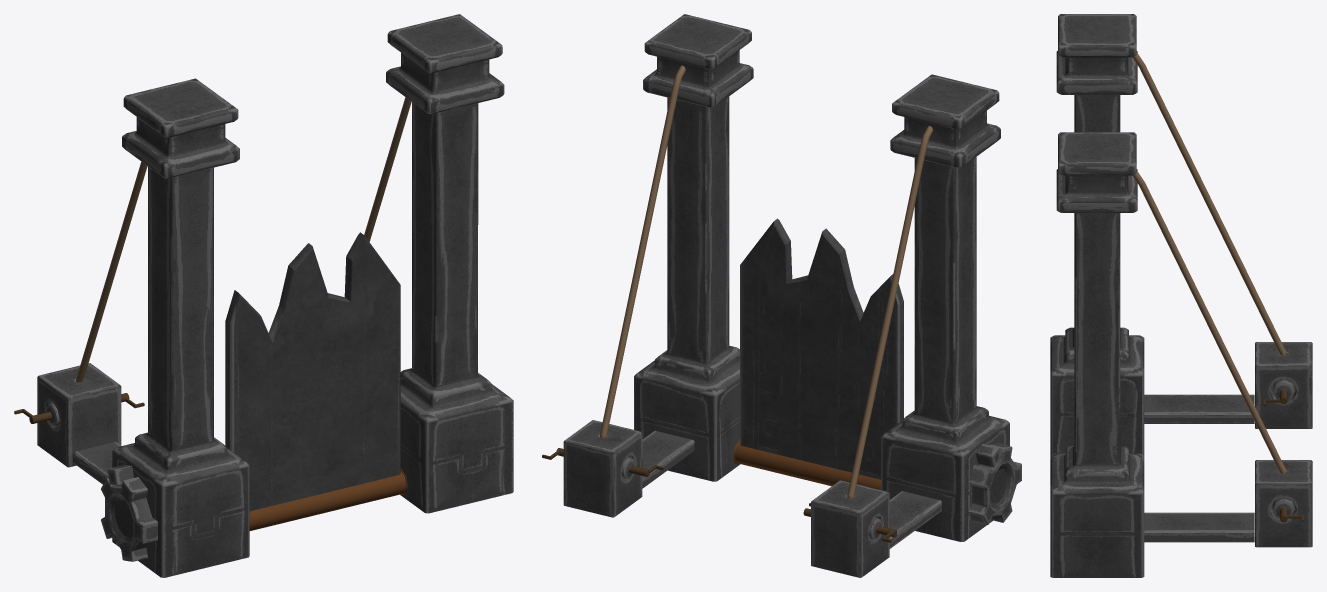
File: drawBridgeBroken.fbx
3 renders of one model, left to right at view 1: azimuth 30°, elevation 25°; view 2: azimuth 150°, elevation 25°; view 3: azimuth 270°, elevation 25°, orthographic. The views are drawn at different scales.
Parts seen in each view (by area): view 1: drawBridgeBroken; view 2: drawBridgeBroken; view 3: drawBridgeBroken.
Boxes of the visible parts, <box> form: drawBridgeBroken: <box>14,14,513,577</box>; drawBridgeBroken: <box>542,14,1021,577</box>; drawBridgeBroken: <box>1050,14,1312,577</box>.
Bounding box in the file's own units: 8.63 × 9.71 × 5.63.
1 material, 1 textured.
